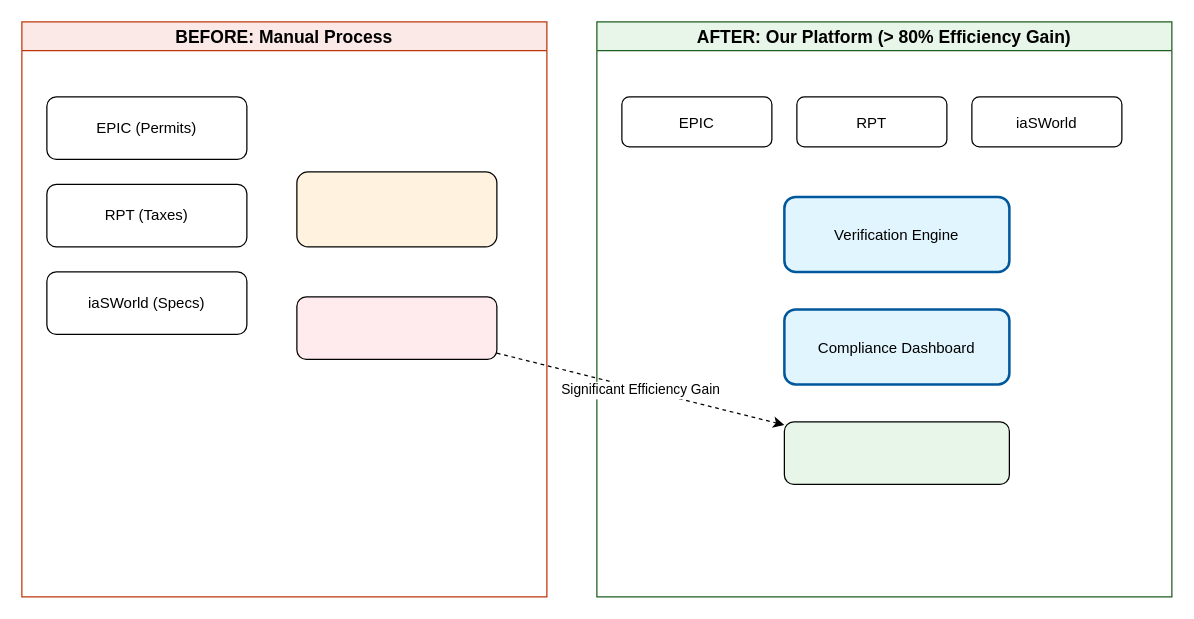
This 1194x619 diagram has some shape labels left out. The centre of each missing label's shape, as x and y in pixels:
"> 80% Efficiency gain" belongs at [896,452].
"Error Prone Manual work" belongs at [396,209].
"Time Consuming switching between Apps" belongs at [396,327].
